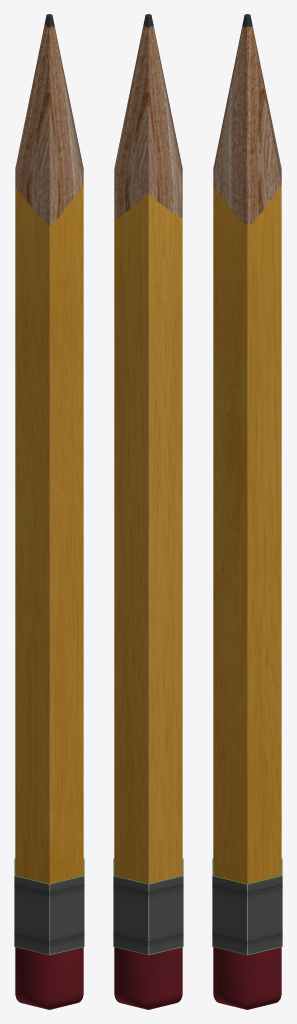
File: pencil.FBX
The picture shows the model from 3 angles, left to right: view 1: azimuth 30°, elevation 25°; view 2: azimuth 210°, elevation 25°; view 3: azimuth 270°, elevation 25°; orthographic projection.
Visible parts, largest first — view 1: Cylinder001; view 2: Cylinder001; view 3: Cylinder001.
Boxes of the visible parts, x1,y1,x2,y2 form: Cylinder001: (14,14,84,1009); Cylinder001: (113,14,183,1009); Cylinder001: (212,14,282,1009).
Size of the model in its own units: 1.22 by 16.18 by 1.05.
